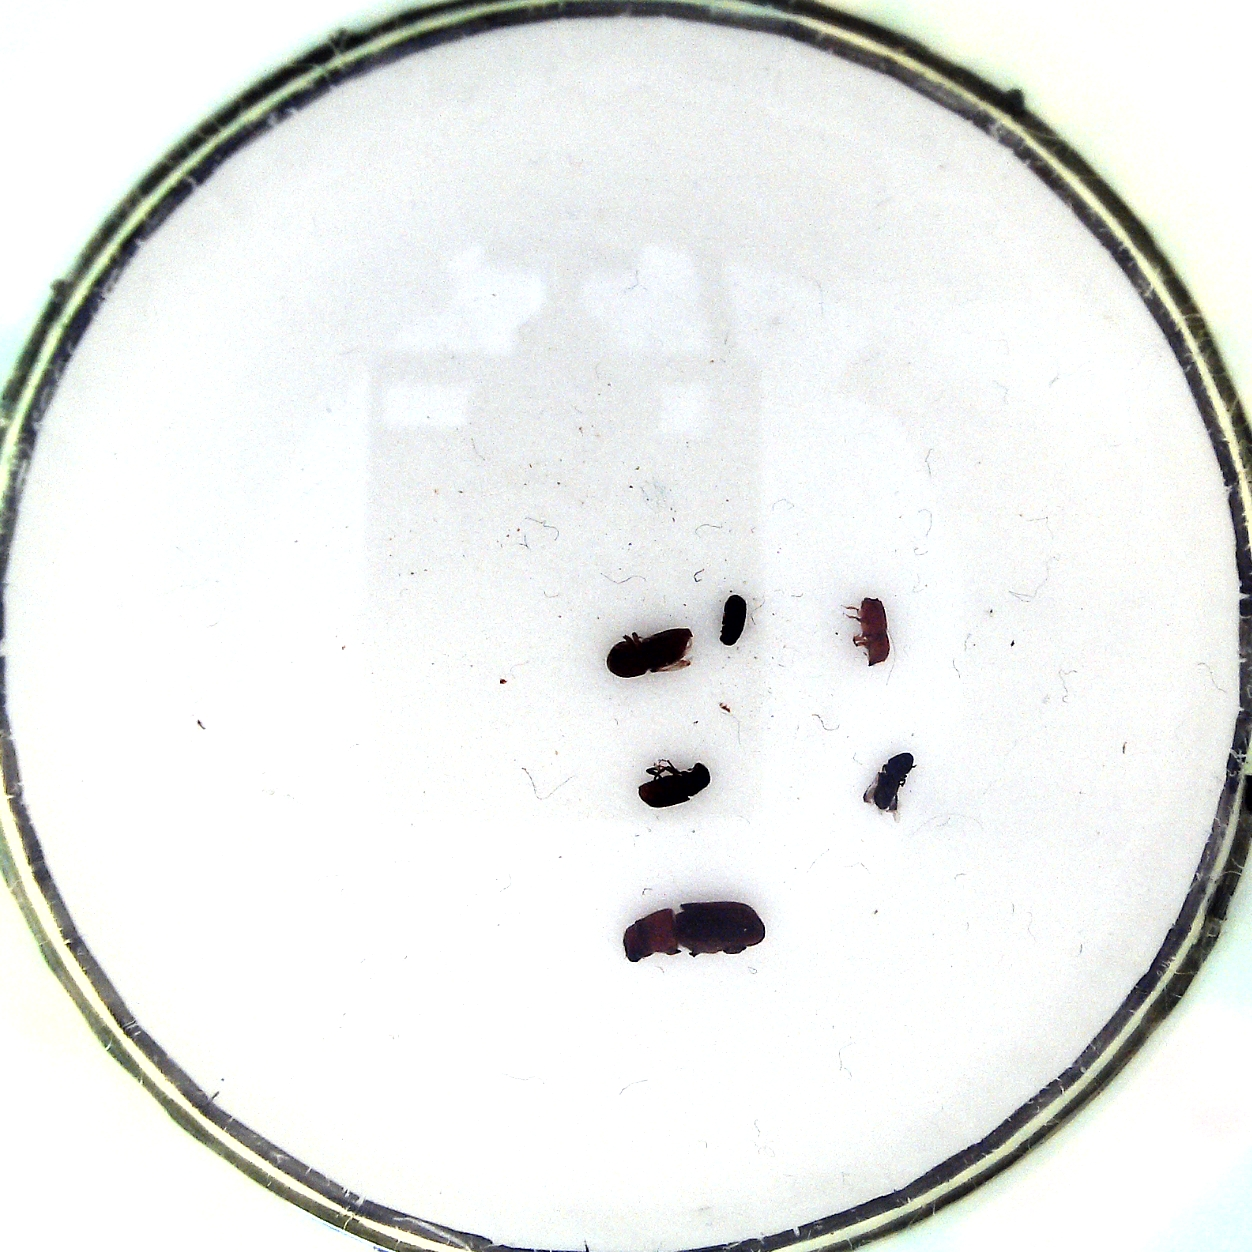Leconte: (624, 899, 770, 973)
Linnaeus: (603, 627, 692, 683)
acuminatus: (844, 593, 895, 676)
armandi: (639, 752, 714, 812)
coleoptera: (867, 750, 918, 821), (714, 589, 752, 650)
